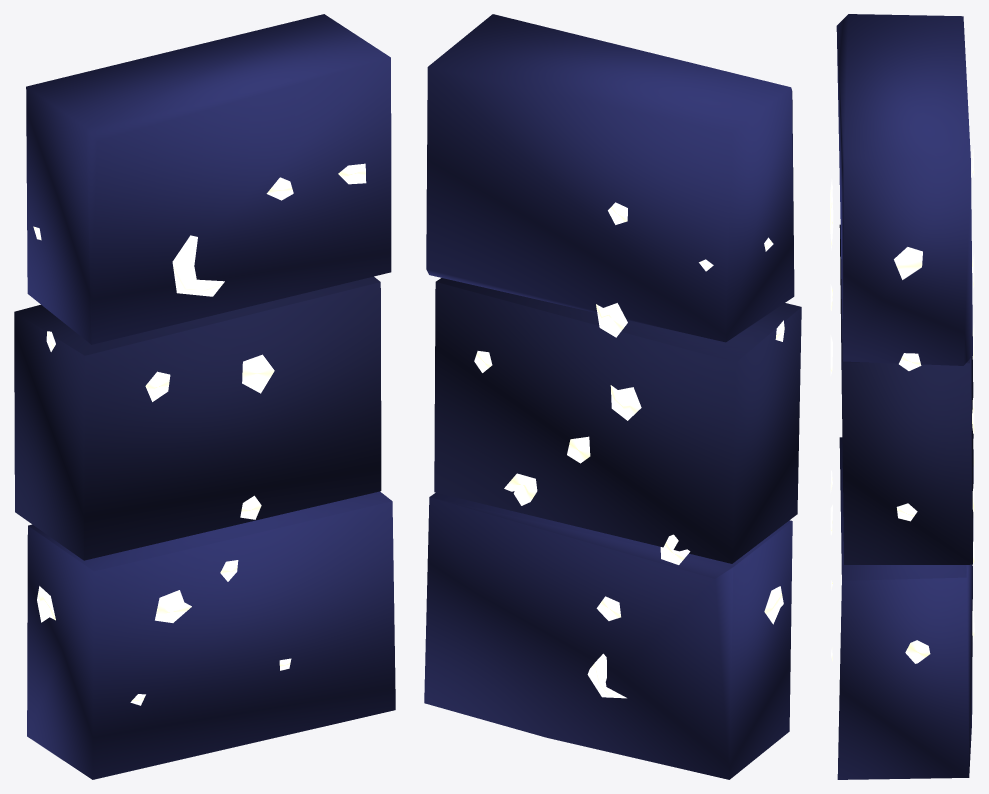
The model's file is den_night_chimney_lod2.glb.
3 renders of one model, left to right at view 1: azimuth 30°, elevation 25°; view 2: azimuth 150°, elevation 25°; view 3: azimuth 270°, elevation 25°, orthographic. The views are drawn at different scales.
Visible parts, largest first — view 1: den_night_chimney.001; view 2: den_night_chimney.001; view 3: den_night_chimney.001.
Part boxes in pixels (x1,y1,x2,y2): den_night_chimney.001: [14, 14, 395, 779]; den_night_chimney.001: [424, 14, 801, 779]; den_night_chimney.001: [830, 14, 974, 779].
Size of the model in its own units: 6.1 by 11.9 by 2.5.
